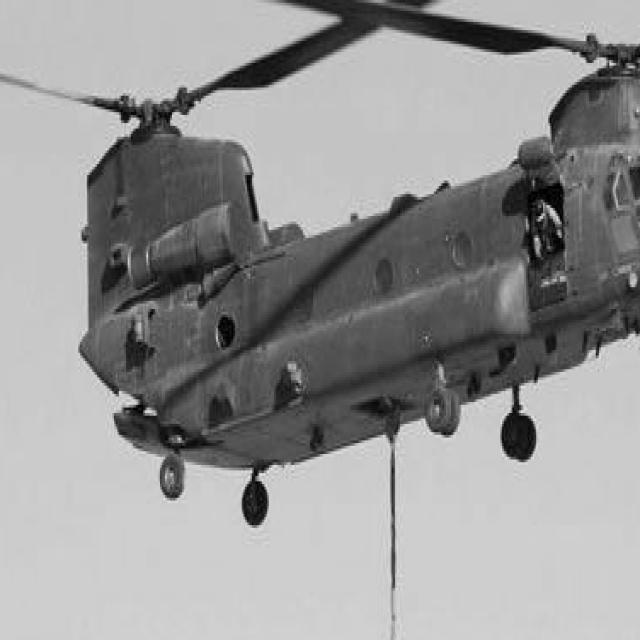helicopter: (1, 1, 640, 499)
